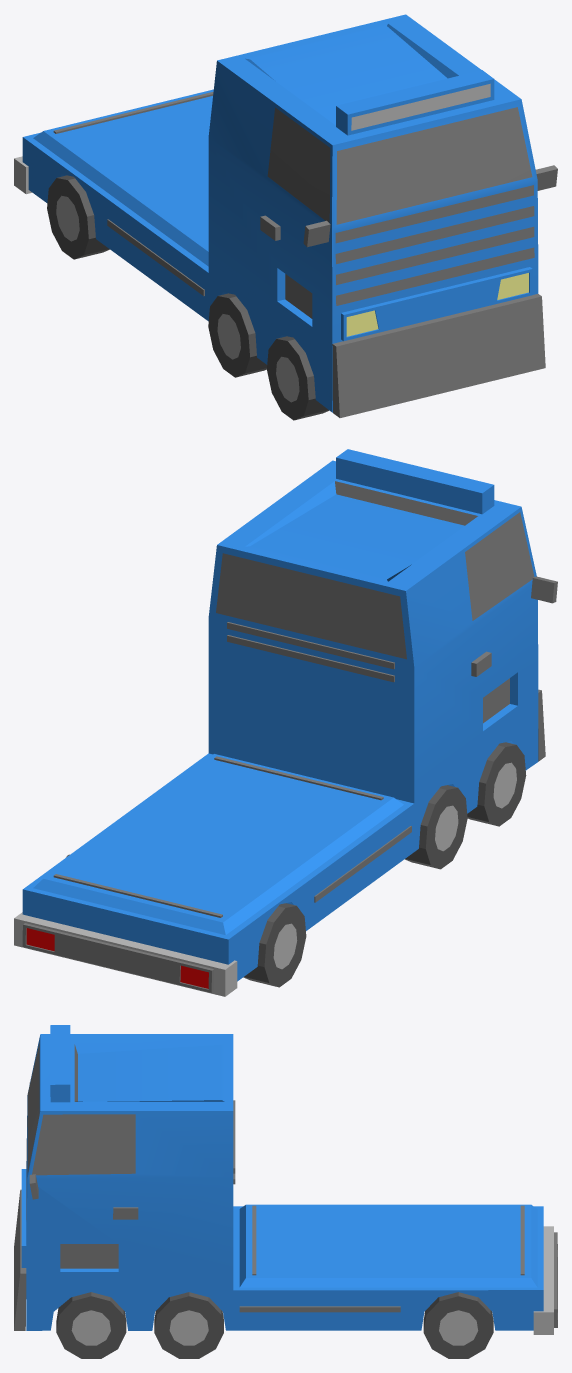
The model's file is SM_Truck_01_04.FBX.
The picture shows the model from 3 angles, top to bottom: view 1: azimuth 30°, elevation 25°; view 2: azimuth 150°, elevation 25°; view 3: azimuth 270°, elevation 25°; orthographic projection. The views are drawn at different scales.
Visible parts, largest first — view 1: SM_Truck_01_04, SM_Wheel_RBack, SM_Wheel_RFront, SM_Wheel_RMid; view 2: SM_Truck_01_04, SM_Wheel_RMid, SM_Wheel_RBack, SM_Wheel_RFront; view 3: SM_Truck_01_04, SM_Wheel_LFront001, SM_Wheel_LBack, SM_Wheel_LMid.
Part boxes in pixels (box(x1,y1,x2,y2)): SM_Truck_01_04: box(14, 14, 557, 417); SM_Wheel_RBack: box(47, 175, 109, 259); SM_Wheel_RFront: box(267, 336, 328, 420); SM_Wheel_RMid: box(208, 293, 267, 377); SM_Truck_01_04: box(14, 449, 557, 996); SM_Wheel_RMid: box(405, 785, 467, 869); SM_Wheel_RBack: box(243, 903, 306, 987); SM_Wheel_RFront: box(467, 742, 526, 826); SM_Truck_01_04: box(14, 1025, 557, 1334); SM_Wheel_LFront001: box(56, 1292, 126, 1358); SM_Wheel_LBack: box(423, 1292, 493, 1358); SM_Wheel_LMid: box(154, 1292, 223, 1358).
Bounding box in the file's own units: 1.85 × 2.21 × 4.19.
Materials: 1 (1 with a texture image).
